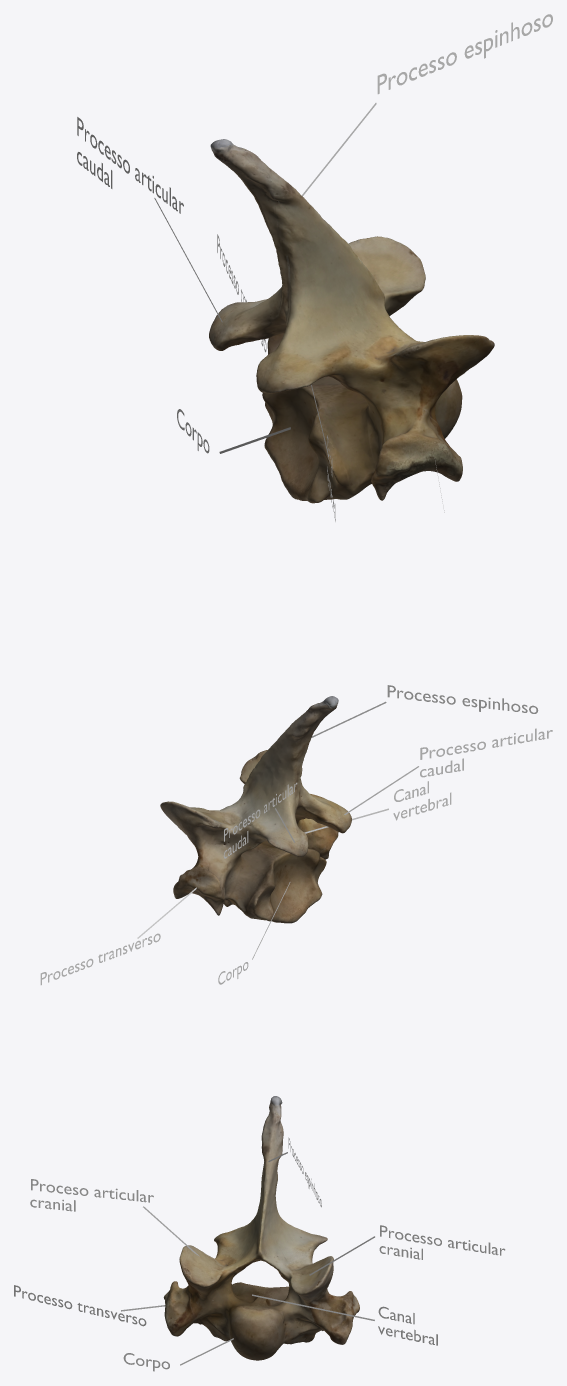
Rendered from 1ª_Vértebra_Torácica.glb.
3 renders of one model, top to bottom at view 1: azimuth 30°, elevation 25°; view 2: azimuth 150°, elevation 25°; view 3: azimuth 270°, elevation 25°, orthographic. The views are drawn at different scales.
Visible parts, largest first — view 1: 3DModel.003, Texto.004, Texto.016; view 2: 3DModel.003, Texto.077, Texto.002, Texto.019, Texto.016, Texto.015; view 3: 3DModel.003, Texto.033, Texto.071, Texto.003, Texto.007.
Boxes of the visible parts, x1,y1,x2,y2 form: 3DModel.003: (209,139,494,503); Texto.004: (377,14,552,94); Texto.016: (77,117,183,213); 3DModel.003: (160,696,351,923); Texto.077: (420,728,552,777); Texto.002: (387,685,538,713); Texto.019: (40,933,160,985); Texto.016: (223,782,297,858); Texto.015: (393,781,451,820); 3DModel.003: (163,1096,359,1360); Texto.033: (379,1225,505,1259); Texto.071: (30,1179,153,1211); Texto.003: (14,1285,146,1326); Texto.007: (378,1306,437,1345).
Size of the model in its own units: 2.61 by 1.59 by 3.16.
1 material, 1 textured.
